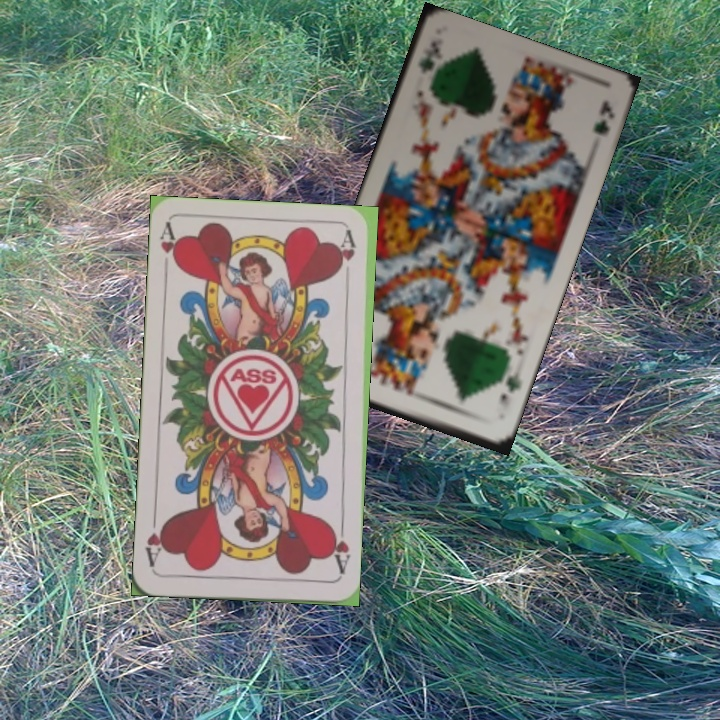GK: (495, 364, 524, 410), (415, 37, 442, 77)
HA: (326, 520, 353, 579), (155, 221, 182, 280)
